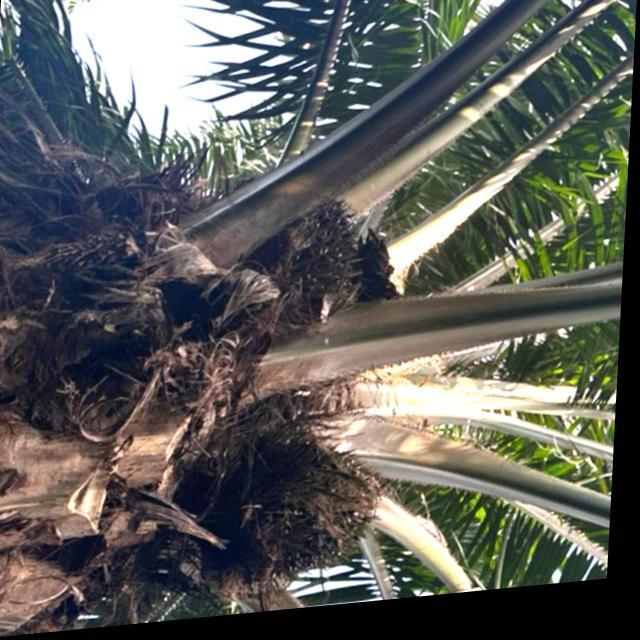ripe: (258, 175, 389, 349)
